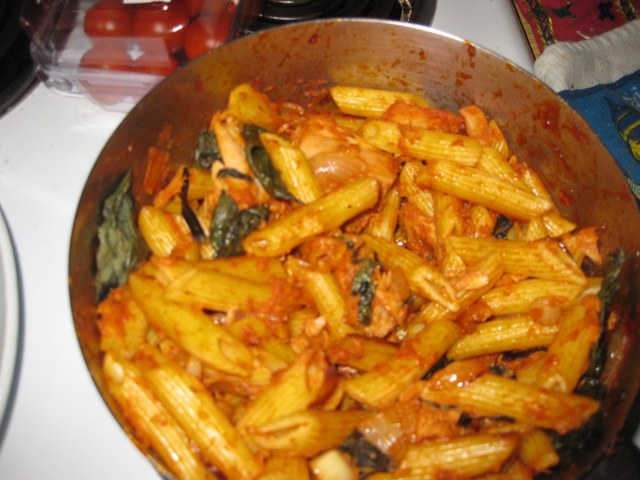tomato: (76, 0, 237, 106)
